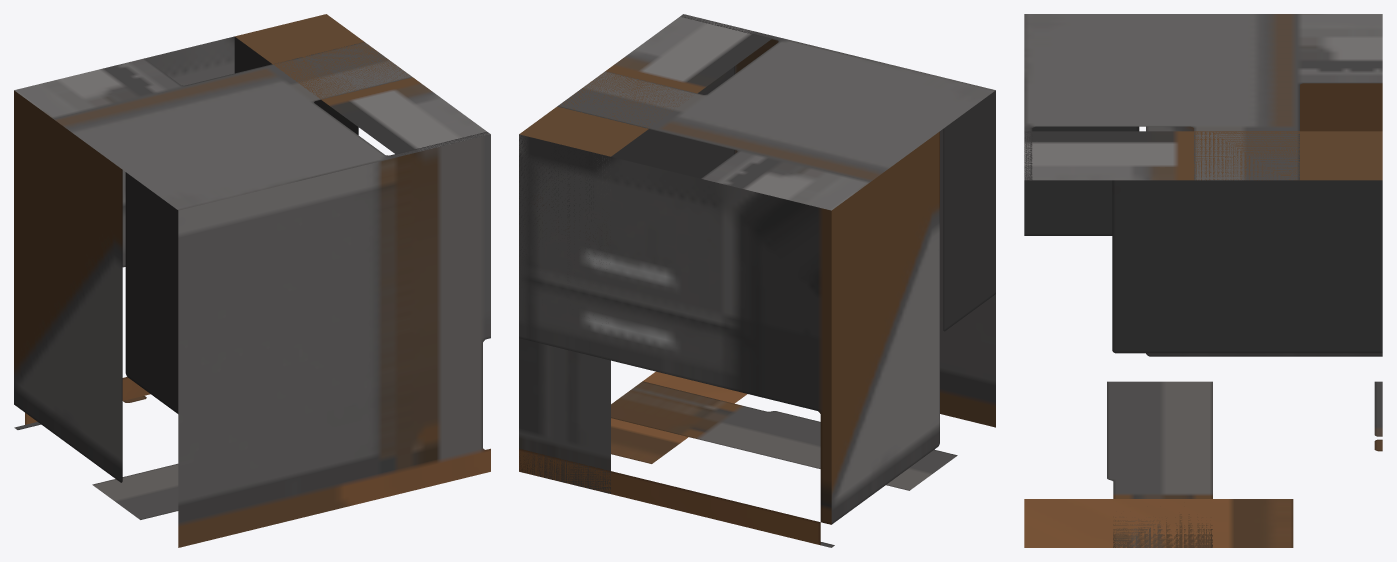
File: section-14.obj
3 renders of one model, left to right at view 1: azimuth 30°, elevation 25°; view 2: azimuth 150°, elevation 25°; view 3: azimuth 270°, elevation 25°, orthographic. The views are drawn at different scales.
Bounding box in the file's own units: 0.8932 × 0.9215 × 0.8142.
